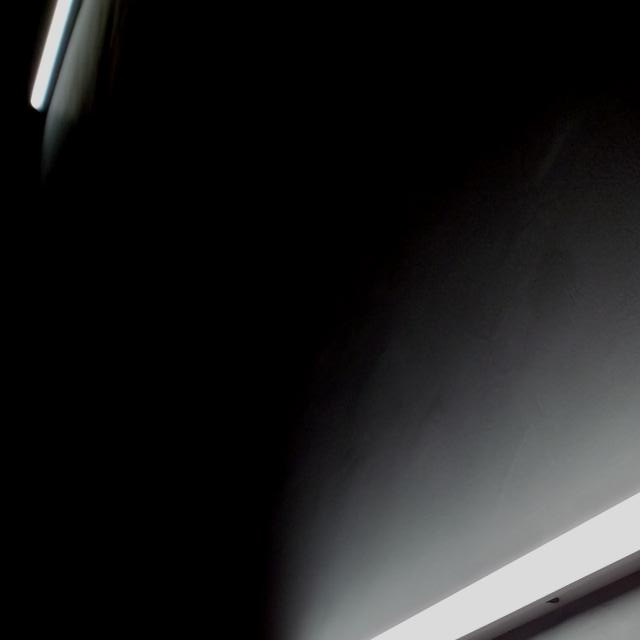fluorescent tube: (217, 383, 640, 640), (13, 0, 104, 144)
